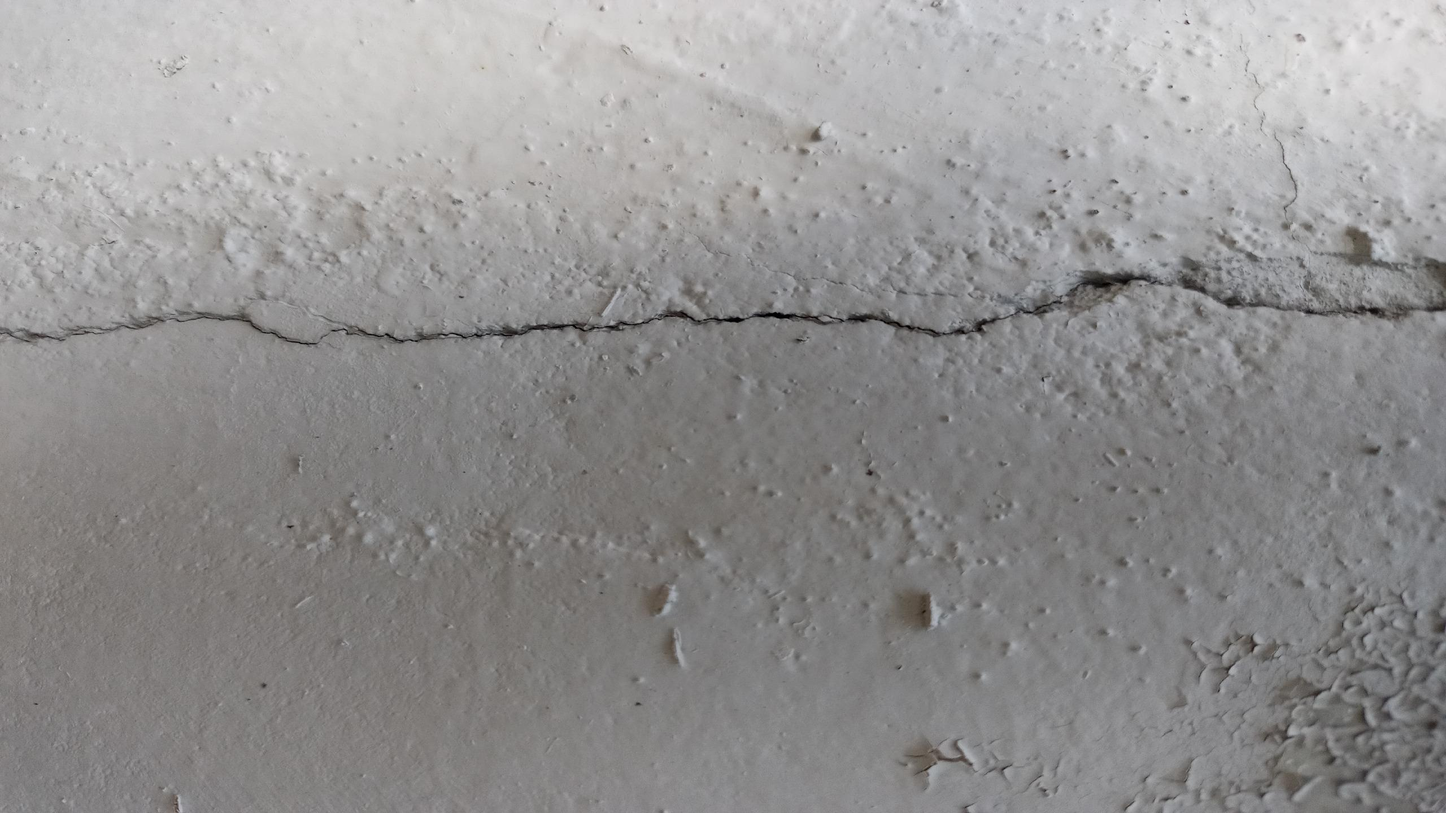crack: (0, 279, 1445, 346)
